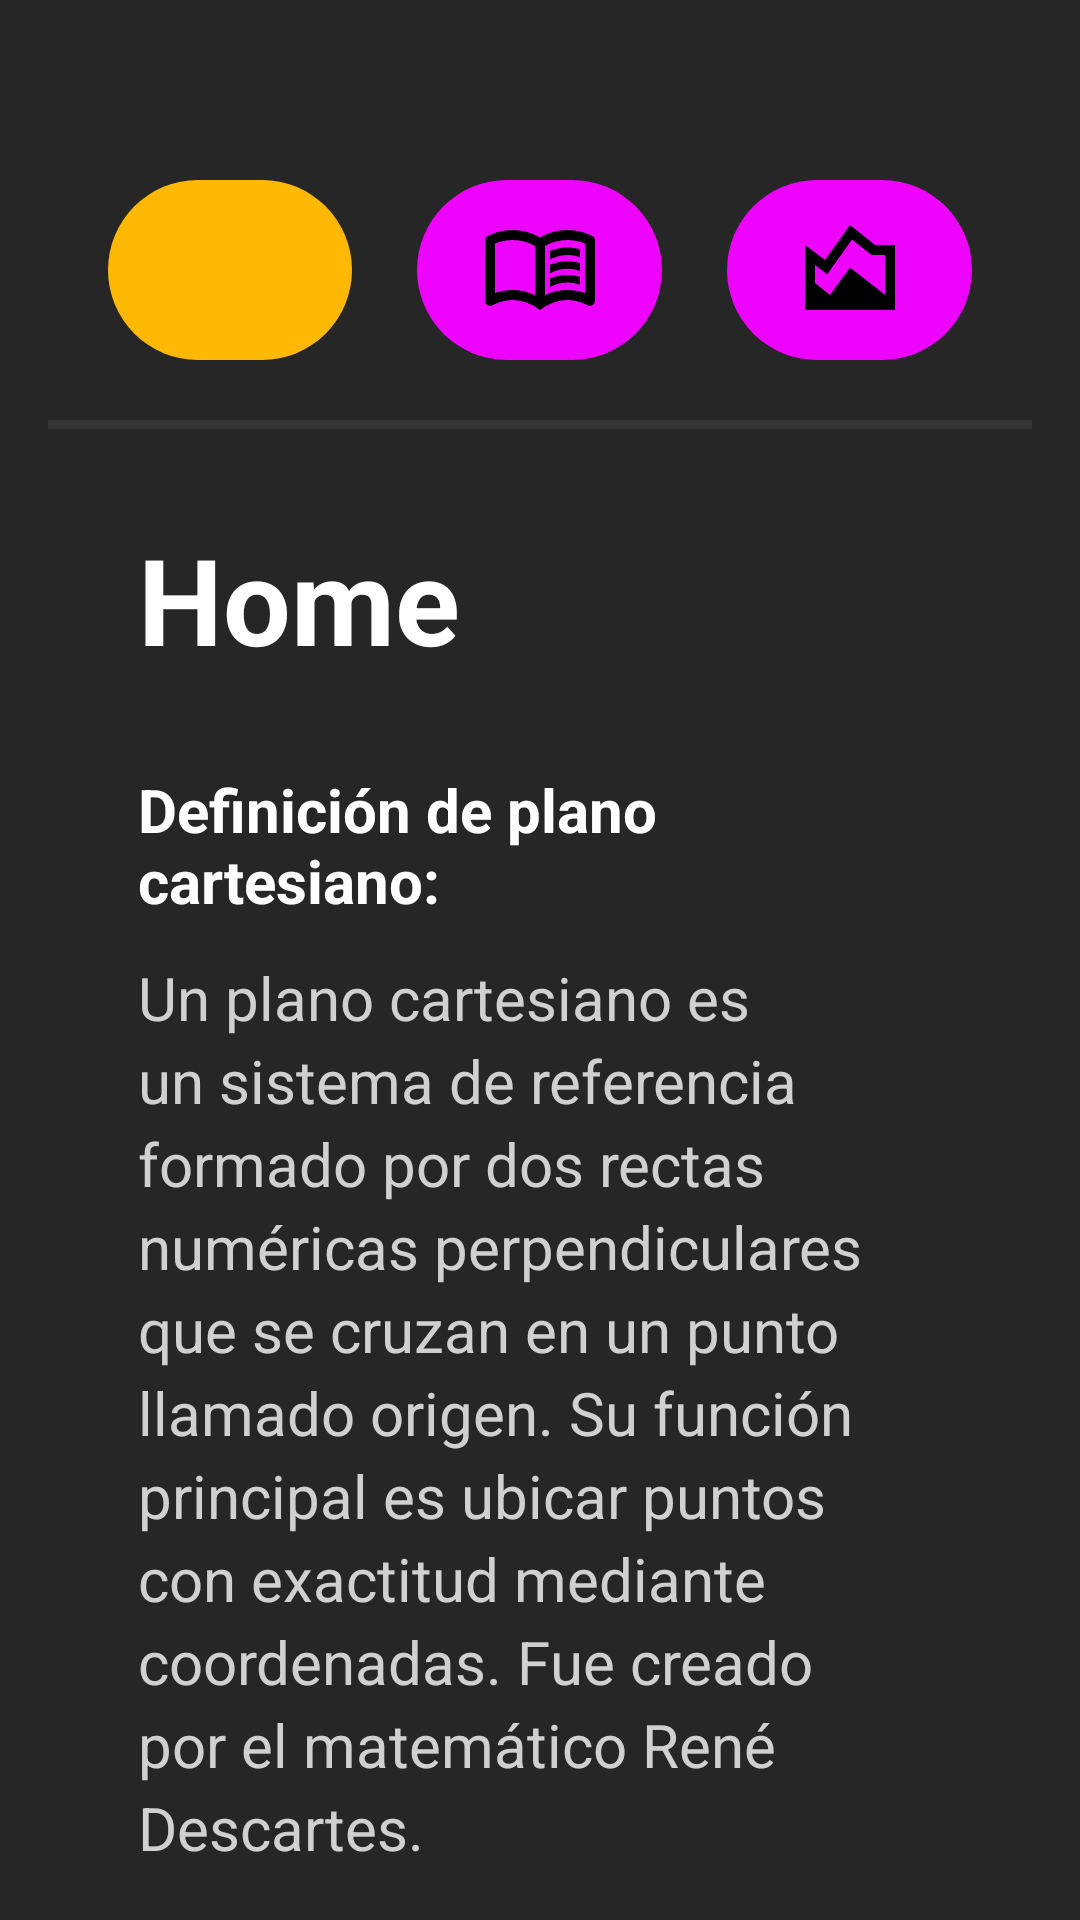

Icons on this 1080px x 1920px Android screen, each with the point to tap as (x,y):
Aprendizaje: (539,270)
Graficar: (849,270)
